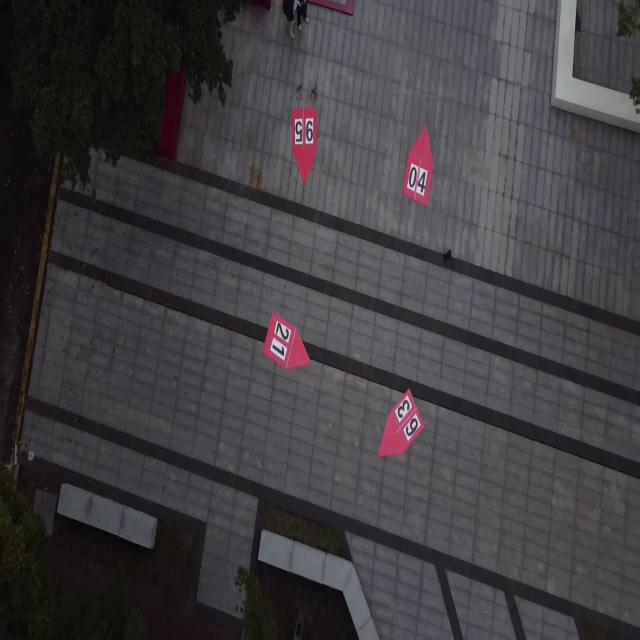-sign-: (377, 389, 425, 459), (262, 311, 312, 371), (402, 123, 434, 208), (291, 106, 318, 187)
